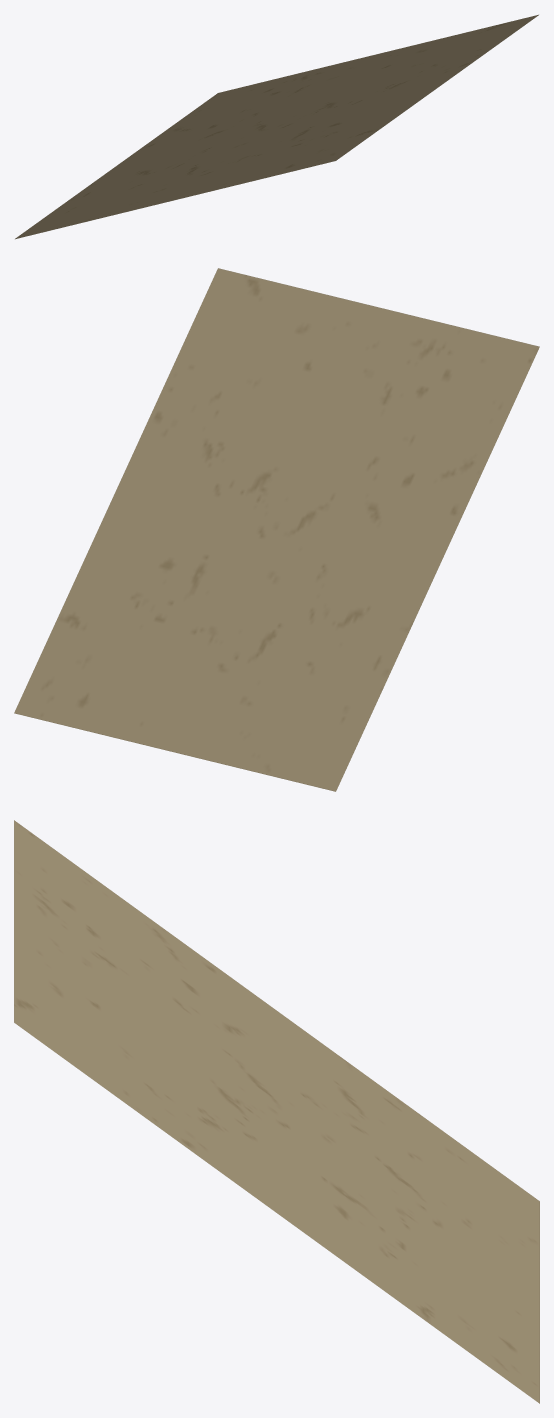
Rendered from SW_ENV_StationStair_Long_Ceiling_FF_Collision.fbx.
3 views of the same model, one above another, from view 1: azimuth 30°, elevation 25°; view 2: azimuth 150°, elevation 25°; view 3: azimuth 270°, elevation 25° (orthographic). The views are drawn at different scales.
Visible parts, largest first — view 1: SW_ENV_StationStair_Long_Ceiling_FF_Collision; view 2: SW_ENV_StationStair_Long_Ceiling_FF_Collision; view 3: SW_ENV_StationStair_Long_Ceiling_FF_Collision.
Part boxes in pixels (x1,y1,x2,y2): SW_ENV_StationStair_Long_Ceiling_FF_Collision: (15, 14, 538, 239); SW_ENV_StationStair_Long_Ceiling_FF_Collision: (14, 268, 539, 791); SW_ENV_StationStair_Long_Ceiling_FF_Collision: (14, 820, 539, 1403).
Size of the model in its own units: 410 by 360 by 450.
